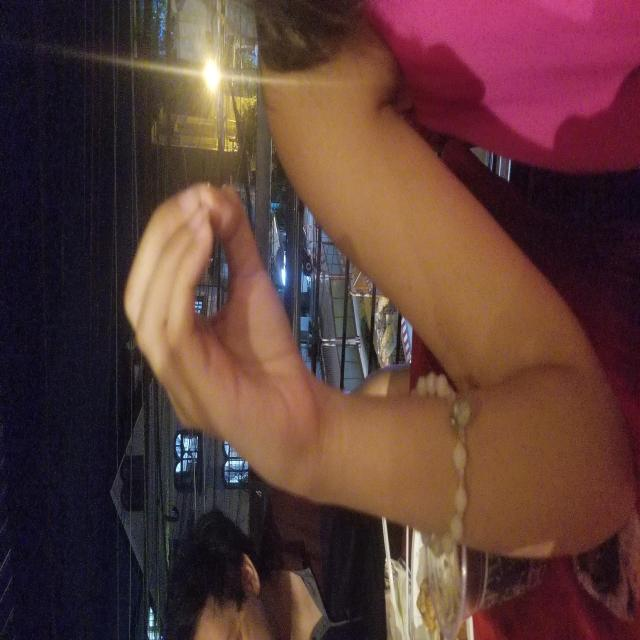O: (204, 122, 462, 303)
